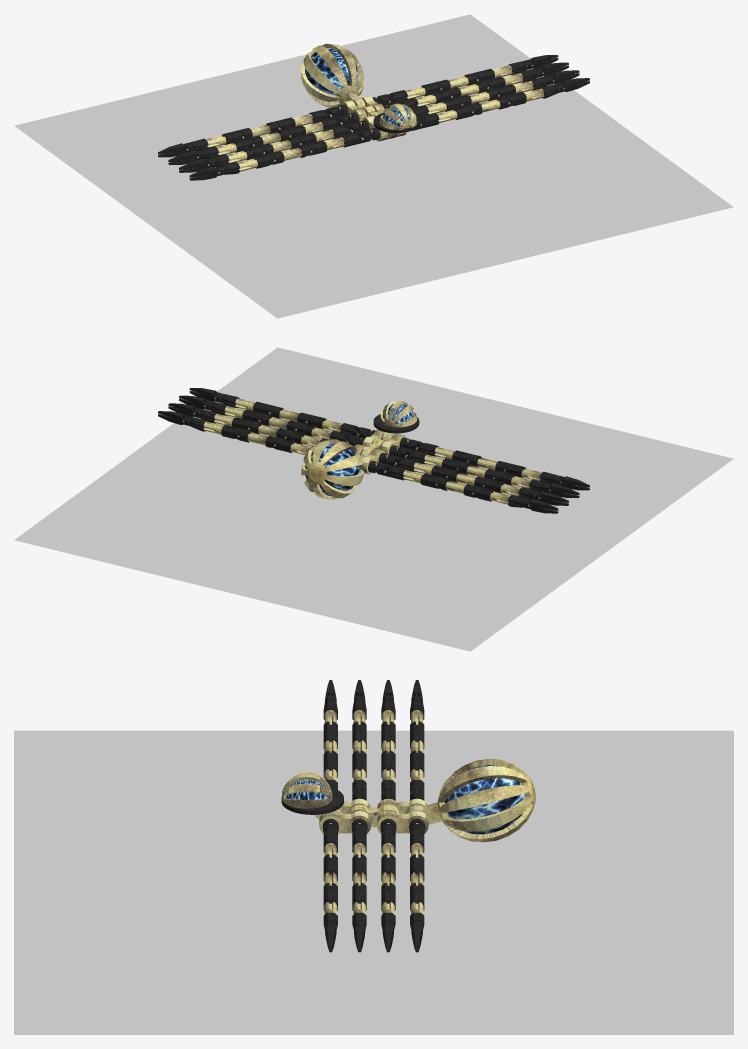
File: spider.dae
The picture shows the model from 3 angles, top to bottom: view 1: azimuth 30°, elevation 25°; view 2: azimuth 150°, elevation 25°; view 3: azimuth 270°, elevation 25°; orthographic projection. The views are drawn at different scales.
Visible parts, largest first — view 1: Plane, Abdomin, Sternum, Eye, TibiaR1, TibiaL1, FemurL1, FemurR1, TibiaR3, TibiaR4, TibiaR2, TibiaL2 (+8 smaller); view 2: Plane, Abdomin, Sternum, Eye, TibiaR4, TibiaL4, FemurR4, TibiaR2, TibiaR1, TibiaR3, TibiaL3, TibiaL2 (+6 smaller); view 3: Plane, Abdomin, Sternum, Eye.
Boxes of the visible parts, bbox=[...] form: Plane: bbox=[14, 14, 733, 318]; Abdomin: bbox=[301, 43, 364, 107]; Sternum: bbox=[337, 96, 406, 141]; Eye: bbox=[373, 103, 419, 133]; TibiaR1: bbox=[216, 153, 275, 175]; TibiaL1: bbox=[506, 82, 564, 105]; FemurL1: bbox=[418, 105, 474, 128]; FemurR1: bbox=[307, 132, 363, 155]; TibiaR3: bbox=[194, 138, 254, 160]; TibiaR4: bbox=[184, 130, 244, 152]; TibiaR2: bbox=[205, 145, 265, 167]; TibiaL2: bbox=[495, 75, 554, 96]; Plane: bbox=[14, 347, 733, 651]; Abdomin: bbox=[301, 439, 364, 499]; Sternum: bbox=[353, 429, 410, 474]; Eye: bbox=[373, 400, 419, 433]; TibiaR4: bbox=[472, 486, 531, 508]; TibiaL4: bbox=[183, 415, 241, 438]; FemurR4: bbox=[384, 465, 440, 488]; TibiaR2: bbox=[493, 471, 553, 493]; TibiaR1: bbox=[503, 463, 563, 485]; TibiaR3: bbox=[482, 478, 542, 500]; TibiaL3: bbox=[193, 408, 252, 429]; TibiaL2: bbox=[204, 400, 262, 422]; Plane: bbox=[14, 730, 733, 1034]; Abdomin: bbox=[437, 758, 535, 842]; Sternum: bbox=[319, 798, 428, 833]; Eye: bbox=[281, 772, 343, 814].
Bounding box in the file's own units: 10 × 10 × 1.83.
